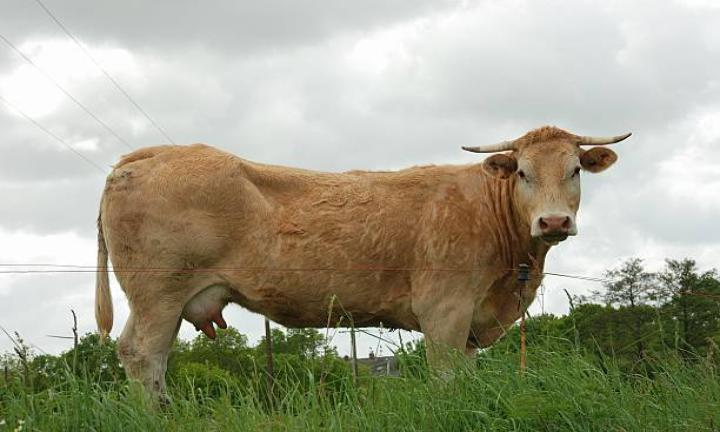Charolais: (95, 126, 628, 391)
